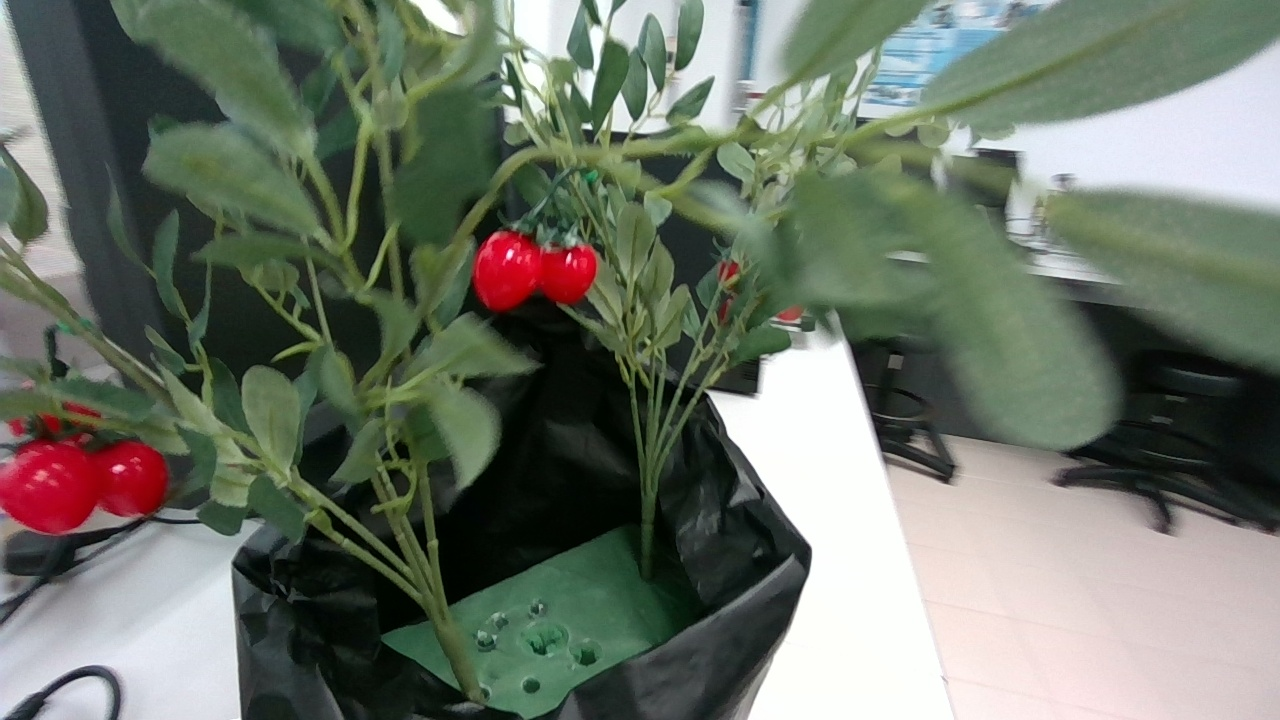peduncle: (548, 167, 573, 193), (44, 328, 56, 356)
strawberry: (0, 441, 98, 534), (89, 440, 167, 516), (472, 229, 542, 312), (539, 243, 597, 304)
